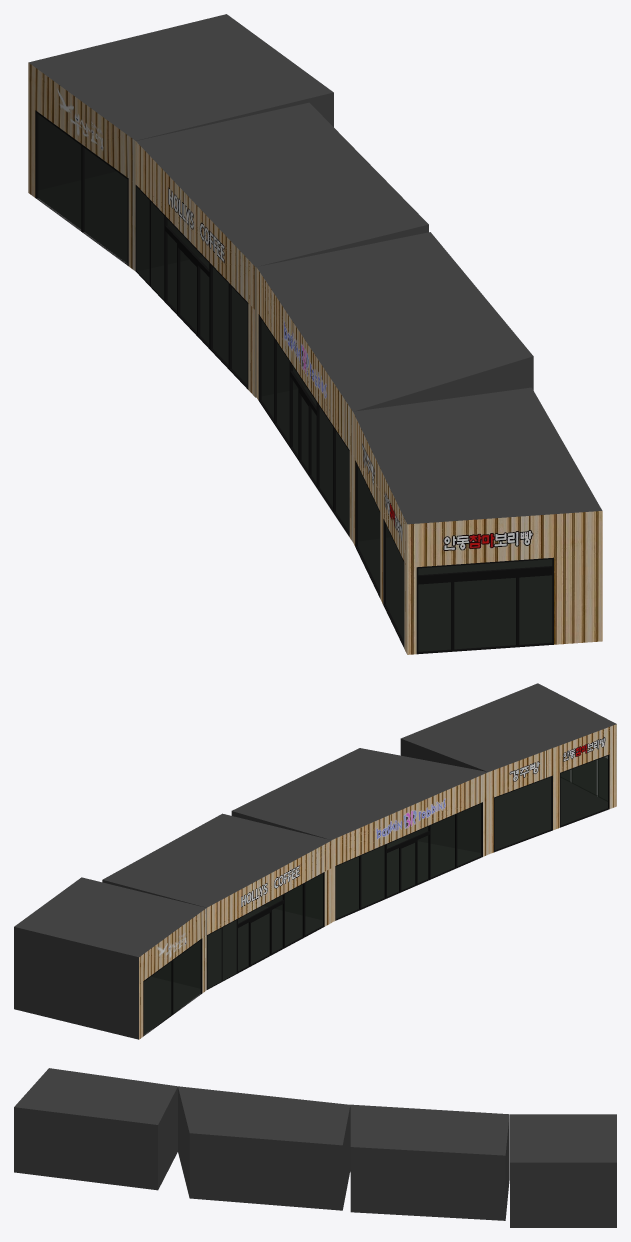
Rendered from ThirdOdeng.fbx.
3 views of the same model, one above another, from view 1: azimuth 30°, elevation 25°; view 2: azimuth 150°, elevation 25°; view 3: azimuth 270°, elevation 25° (orthographic). The views are drawn at different scales.
Visible parts, largest first — view 1: Box168; view 2: Box168; view 3: Box168.
Boxes of the visible parts, left/top/right/bottom form: Box168: left=28, top=14, right=602, bottom=654; Box168: left=14, top=683, right=616, bottom=1039; Box168: left=14, top=1068, right=616, bottom=1227.
Bounding box in the file's own units: 9.31 × 3 × 25.11.
Materials: 4 (1 with a texture image).
